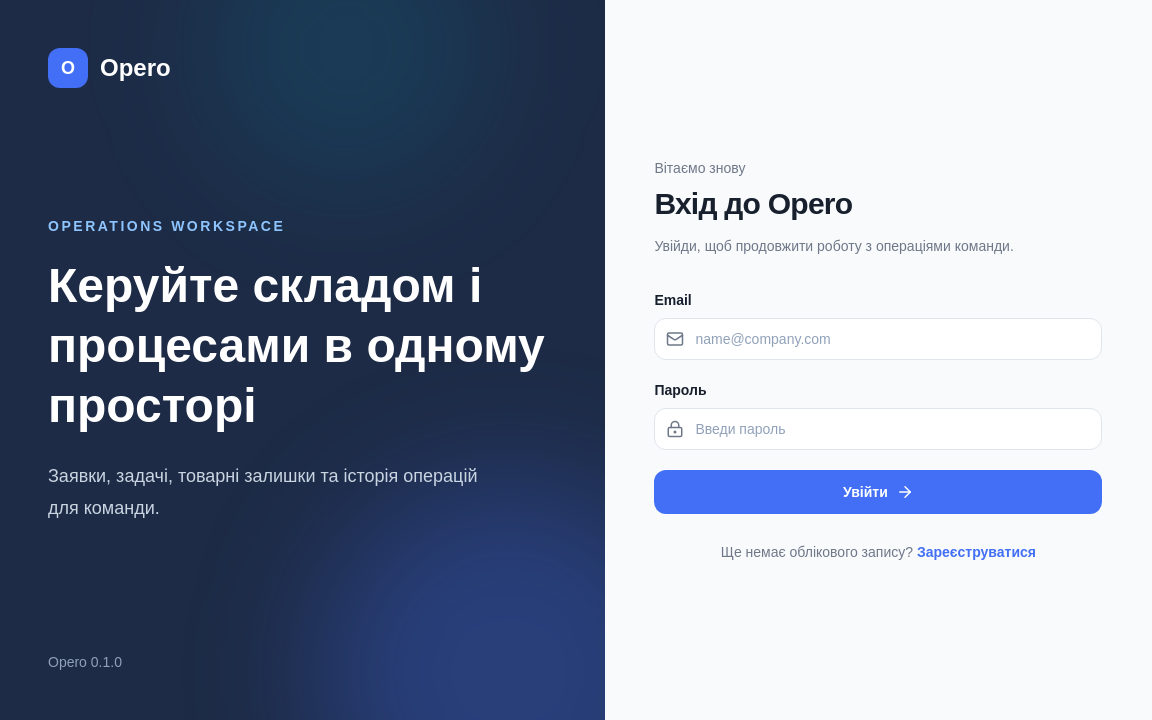
Test: LoginPage › shows an API error
The width and height of the screenshot is (1152, 720).
Type "admin@example.com" into the field labelled "Email" at [878, 339], box x1=654 y1=318 x2=1102 y2=360
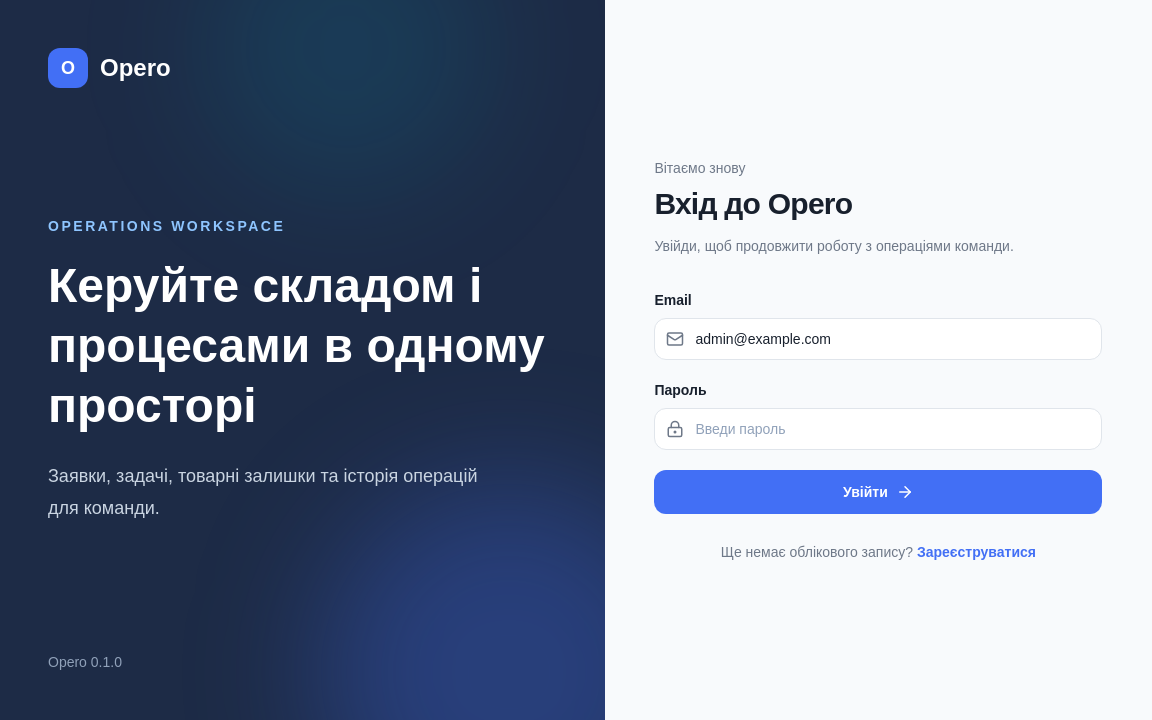
Type "incorrect-password" into the password field labelled "Пароль" at [878, 429], box x1=654 y1=408 x2=1102 y2=450
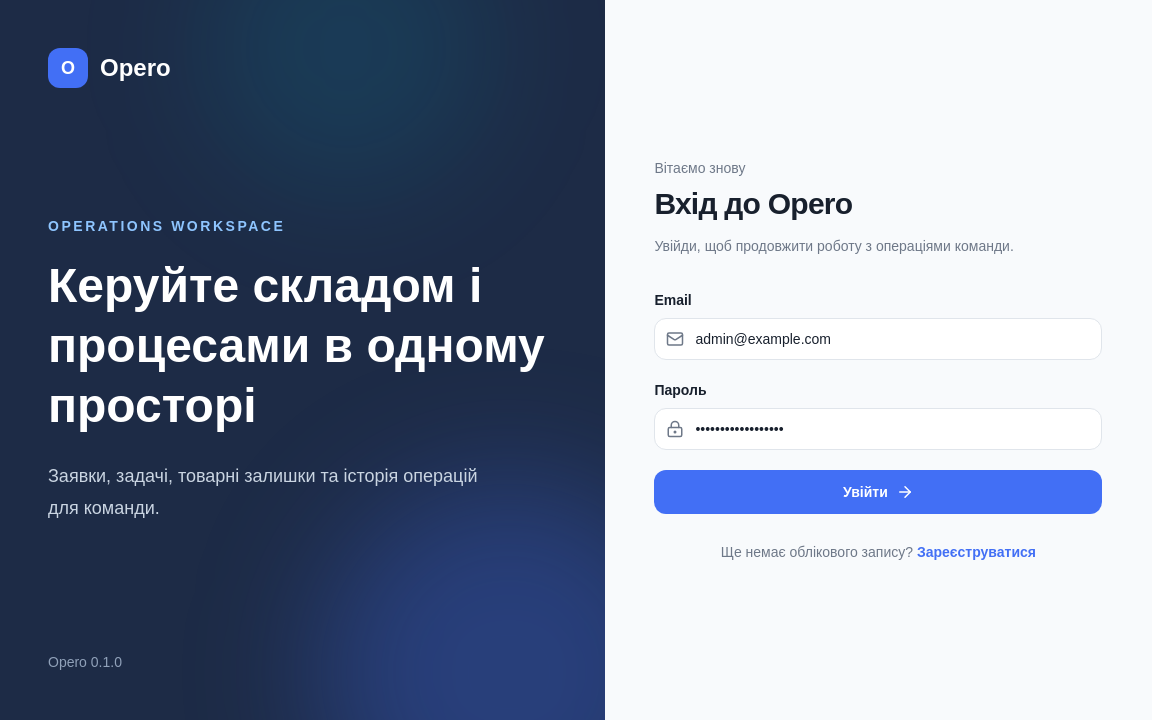
Click the button "Увійти" at [878, 492], box x1=654 y1=470 x2=1102 y2=514
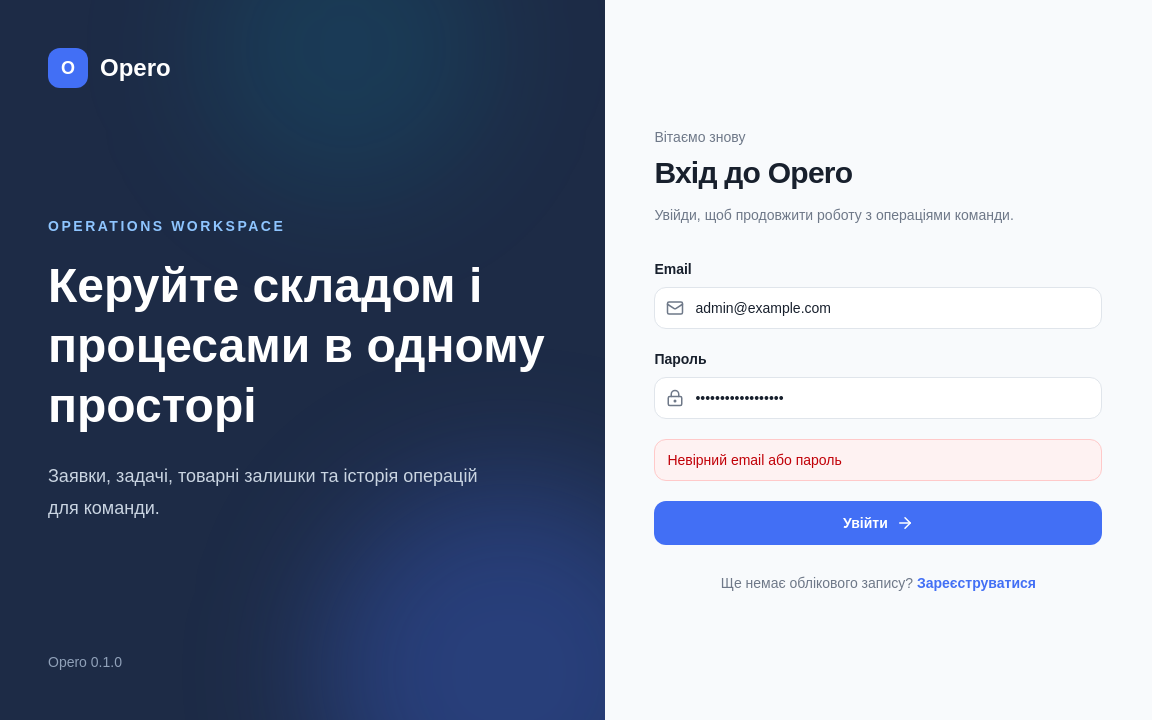
Expected: the text "Невірний email або пароль" is shown, x1=654 y1=439 x2=1102 y2=481
